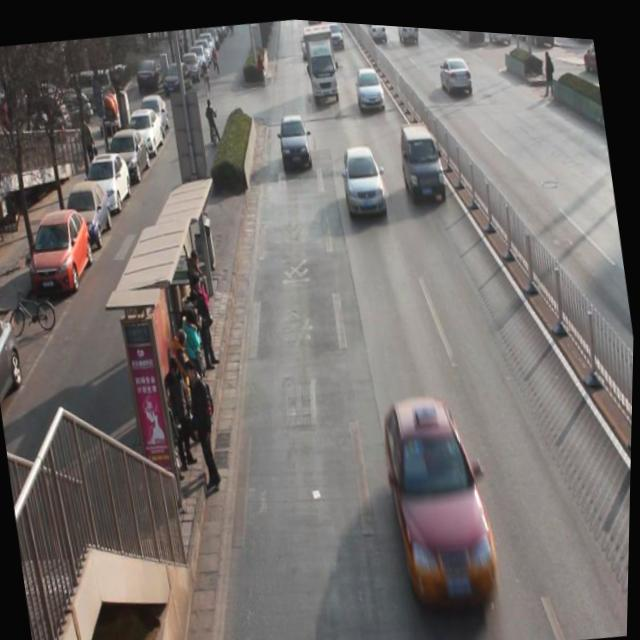bus: (302, 20, 343, 102)
car: (375, 380, 513, 607), (393, 118, 453, 205), (338, 137, 393, 222), (276, 108, 316, 170), (435, 46, 478, 101), (353, 64, 388, 109), (324, 17, 347, 49), (366, 19, 390, 42)
truck: (394, 21, 422, 45)
